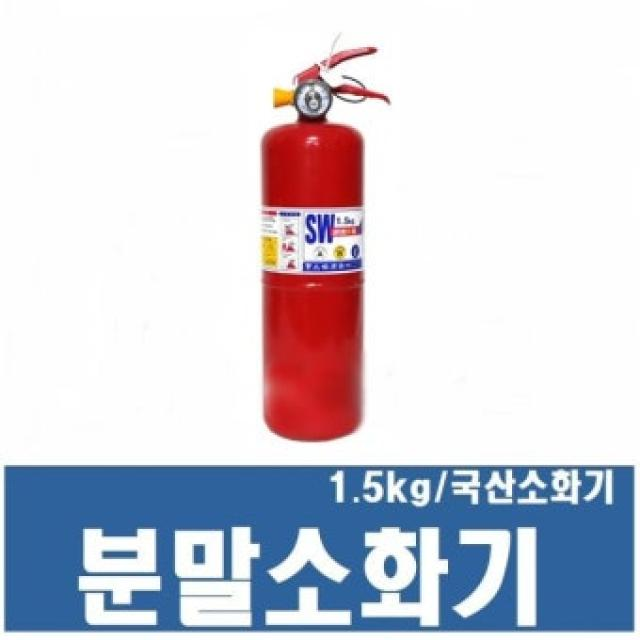pressure gauge: (294, 79, 331, 119)
